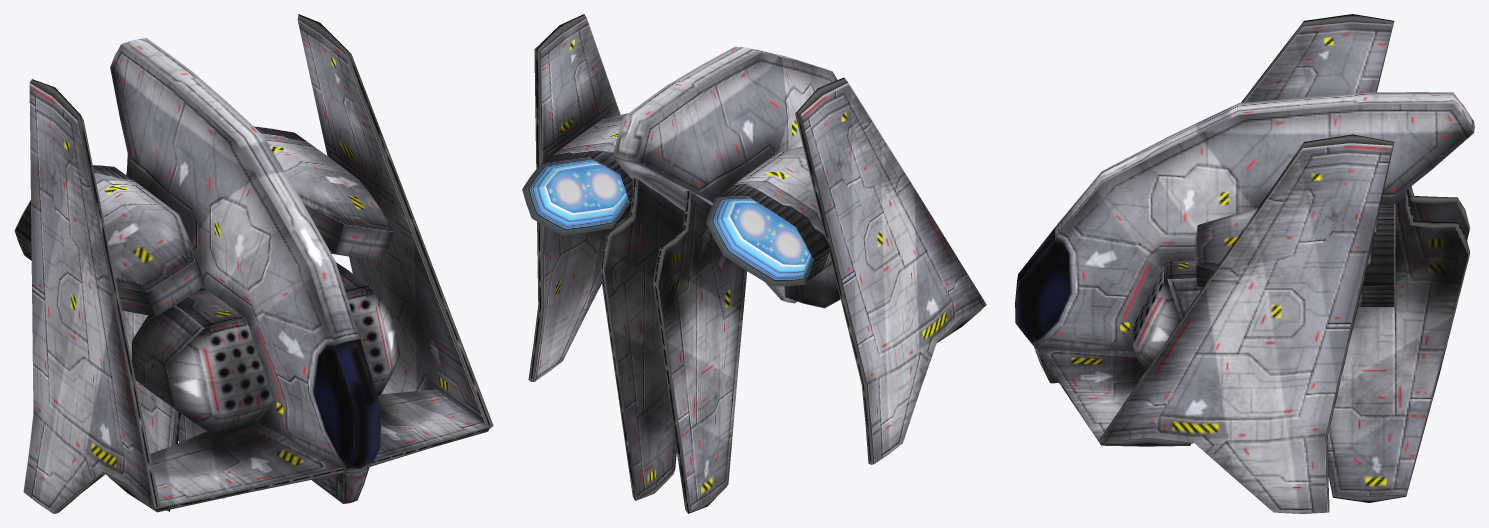
The model's file is tristan.gltf.
3 renders of one model, left to right at view 1: azimuth 30°, elevation 25°; view 2: azimuth 150°, elevation 25°; view 3: azimuth 270°, elevation 25°, orthographic. The views are drawn at different scales.
Visible parts, largest first — view 1: Base; view 2: Base; view 3: Base.
Boxes of the visible parts, left/top/right/bottom form: Base: left=14, top=14, right=493, bottom=513; Base: left=522, top=14, right=986, bottom=513; Base: left=1015, top=14, right=1474, bottom=513.
Size of the model in its own units: 12.69 by 15.3 by 15.29.
1 material, 1 textured.
